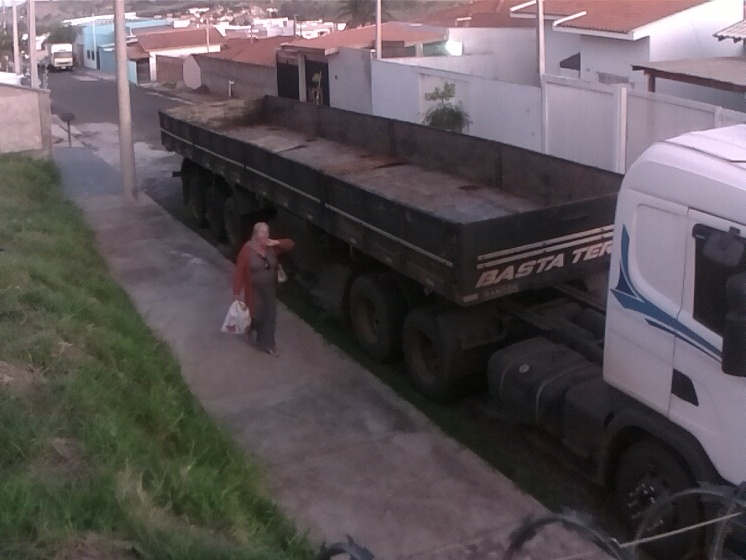person: (230, 219, 301, 360)
